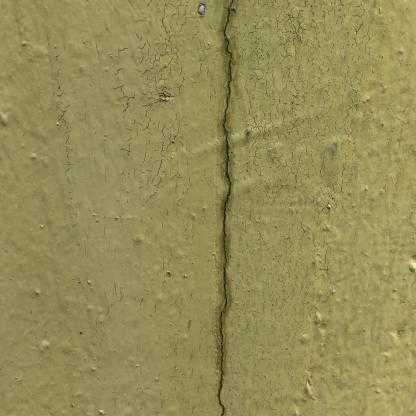crack: (218, 1, 233, 415)
